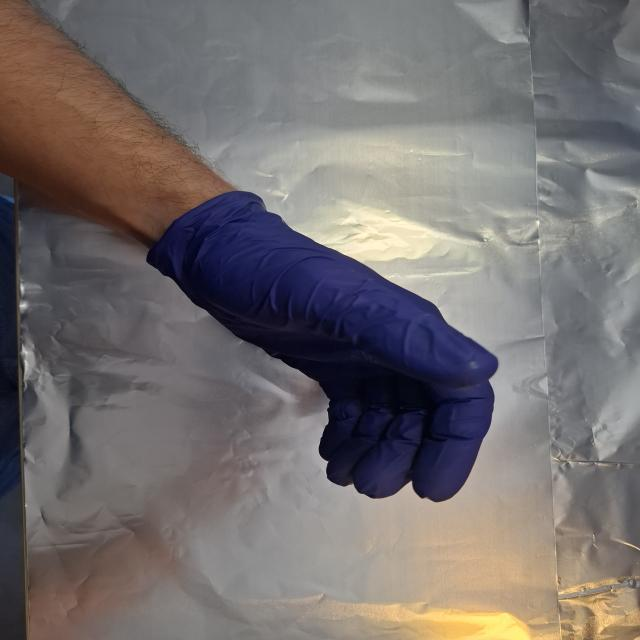glove_on: (155, 198, 502, 507)
